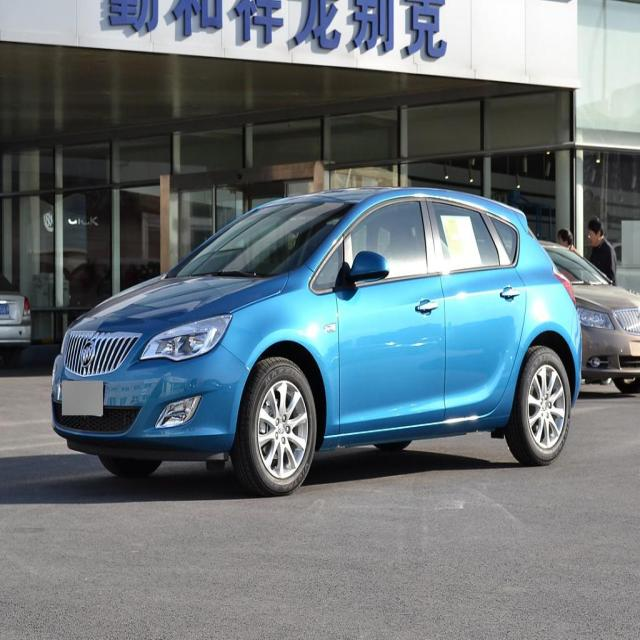back_left_side_light: (552, 261, 578, 309)
door: (427, 200, 529, 418)
front_bumper: (50, 340, 249, 454)
front_glass: (162, 196, 360, 279)
front_left_side_door: (337, 192, 448, 436)
front_left_side_light: (138, 312, 234, 363)
front_left_side_mirror: (343, 250, 391, 287)
wheel: (233, 356, 318, 496), (501, 346, 571, 464)
